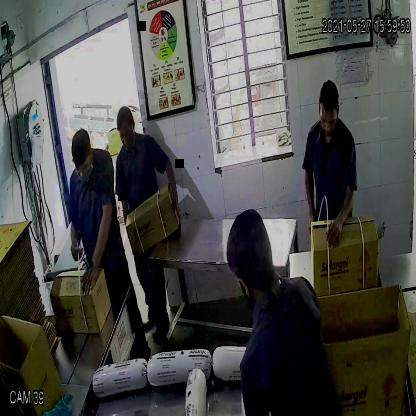no_goggles: (317, 108, 340, 130), (72, 159, 92, 176)
